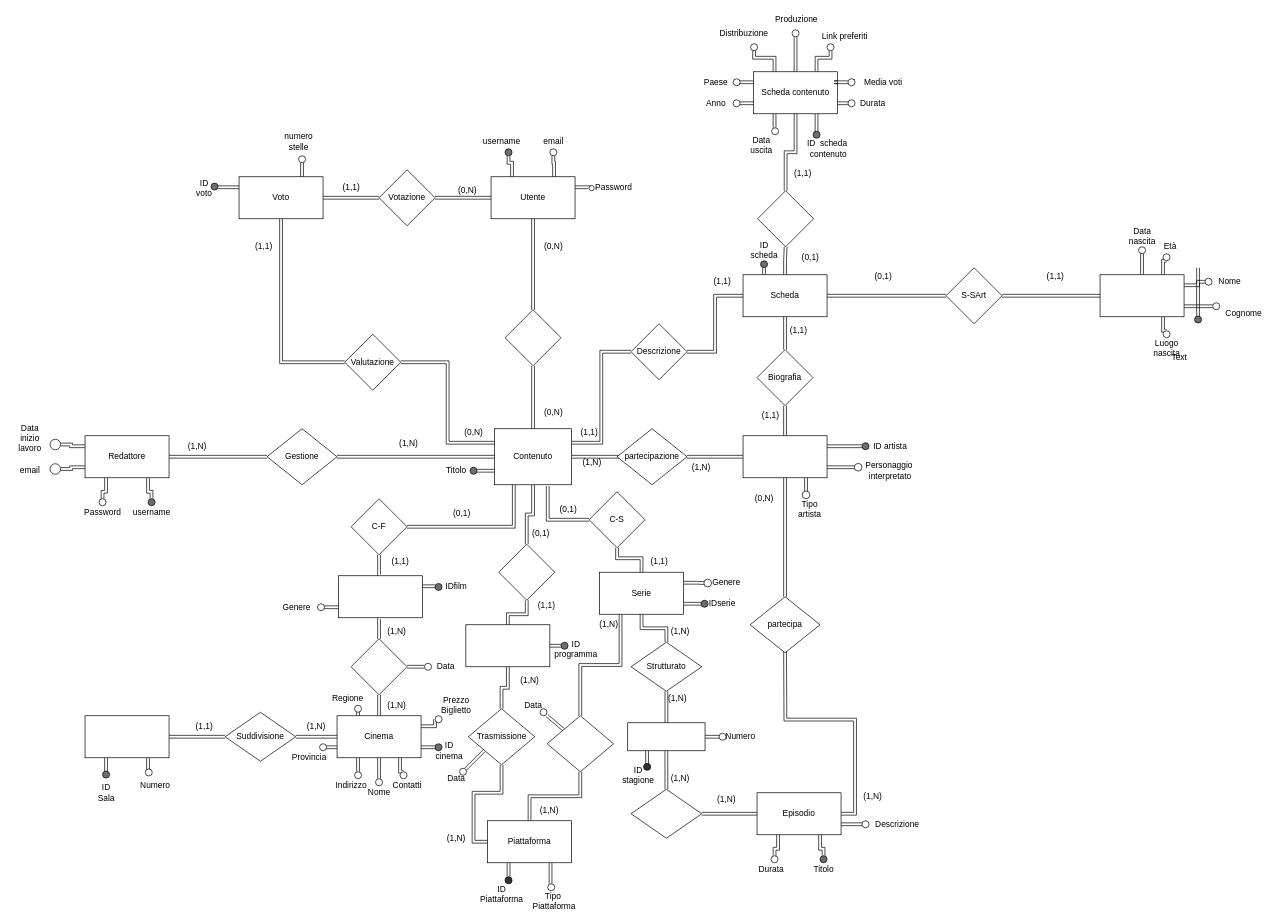
The diagram is 1280 pixels wide and 923 high, and some of its shapes have lost their labels. Here are the shapes that lost their labels. From the top down, the centre of each, then its label:
At point 785,218: "SCont-S".
At point 1141,295: "Scheda artista".
At point 532,337: "Preferito".
At point 784,456: "Artista".
At point 526,572: "C-P".
At point 380,596: "Film".
At point 507,645: "Programmi".
At point 378,666: "Proiezione".
At point 126,736: "Sala".
At point 580,743: "Diffusione".
At point 666,736: "Stagione".
At point 666,813: "Composizione".
